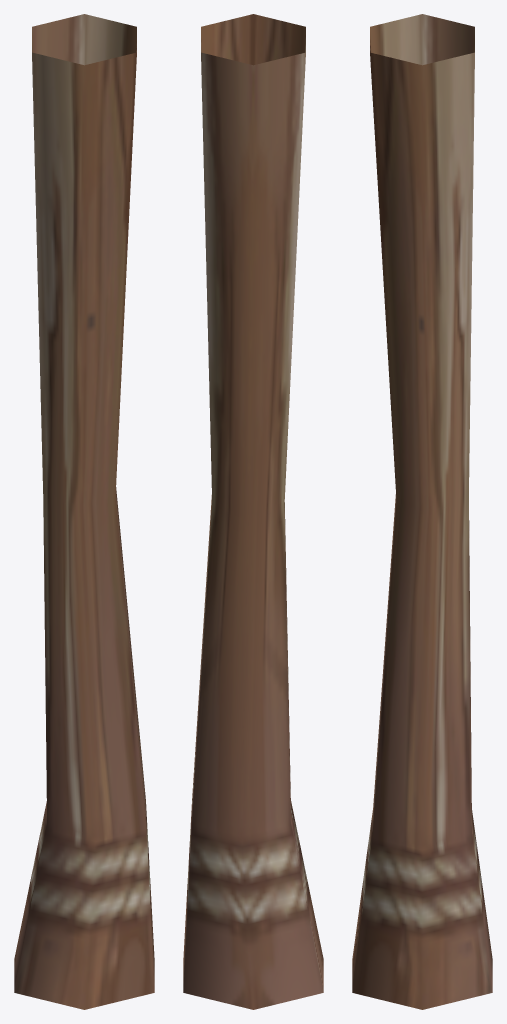
File: map_1002_wj_26a.FBX
3 views of the same model, side by side, from view 1: azimuth 30°, elevation 25°; view 2: azimuth 150°, elevation 25°; view 3: azimuth 270°, elevation 25° (orthographic).
Parts seen in each view (by area): view 1: map_1002_wj_26a; view 2: map_1002_wj_26a; view 3: map_1002_wj_26a.
Boxes of the visible parts, x1=… form: map_1002_wj_26a: x1=14, y1=14, x2=154, y2=1009; map_1002_wj_26a: x1=183, y1=14, x2=323, y2=1009; map_1002_wj_26a: x1=352, y1=14, x2=492, y2=1009.
Bounding box in the file's own units: 0.7264 × 4.64 × 0.6291.
